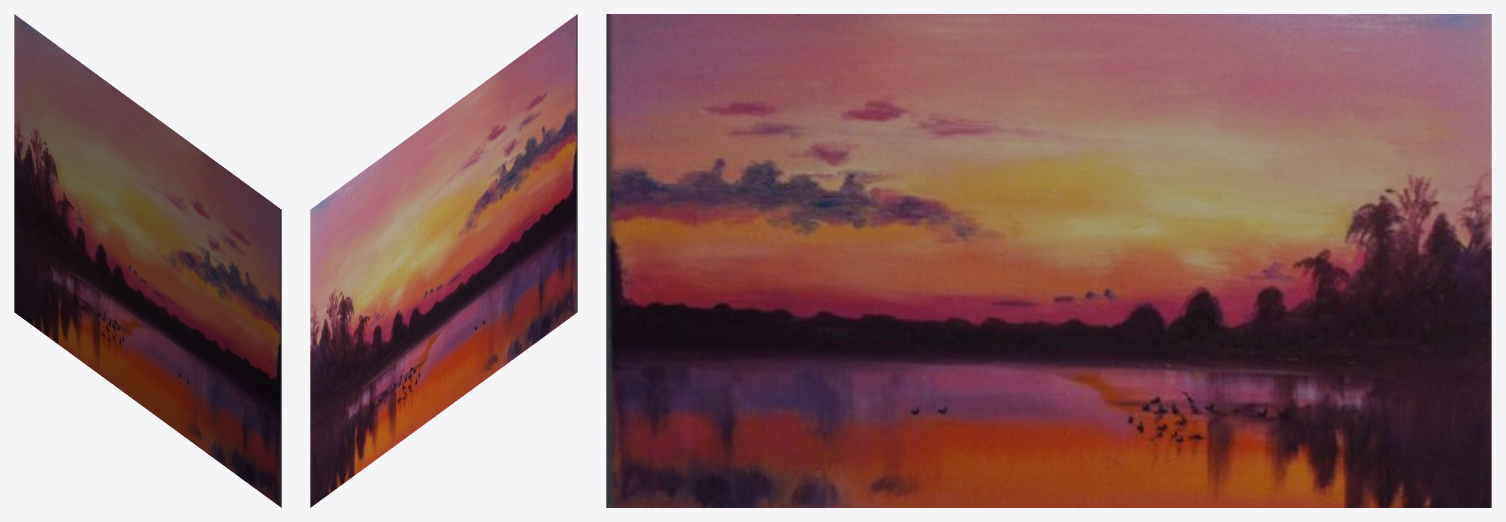
Rendered from paint 1 fmp.fbx.
The picture shows the model from 3 angles, left to right: view 1: azimuth 30°, elevation 25°; view 2: azimuth 150°, elevation 25°; view 3: azimuth 270°, elevation 25°; orthographic projection. The views are drawn at different scales.
Parts seen in each view (by area): view 1: pPlane5; view 2: pPlane5; view 3: pPlane5.
Boxes of the visible parts, x1=… form: pPlane5: x1=14, y1=14, x2=281, y2=507; pPlane5: x1=310, y1=14, x2=577, y2=507; pPlane5: x1=606, y1=14, x2=1491, y2=507.
Bounding box in the file's own units: 0 × 12.97 × 21.08.
